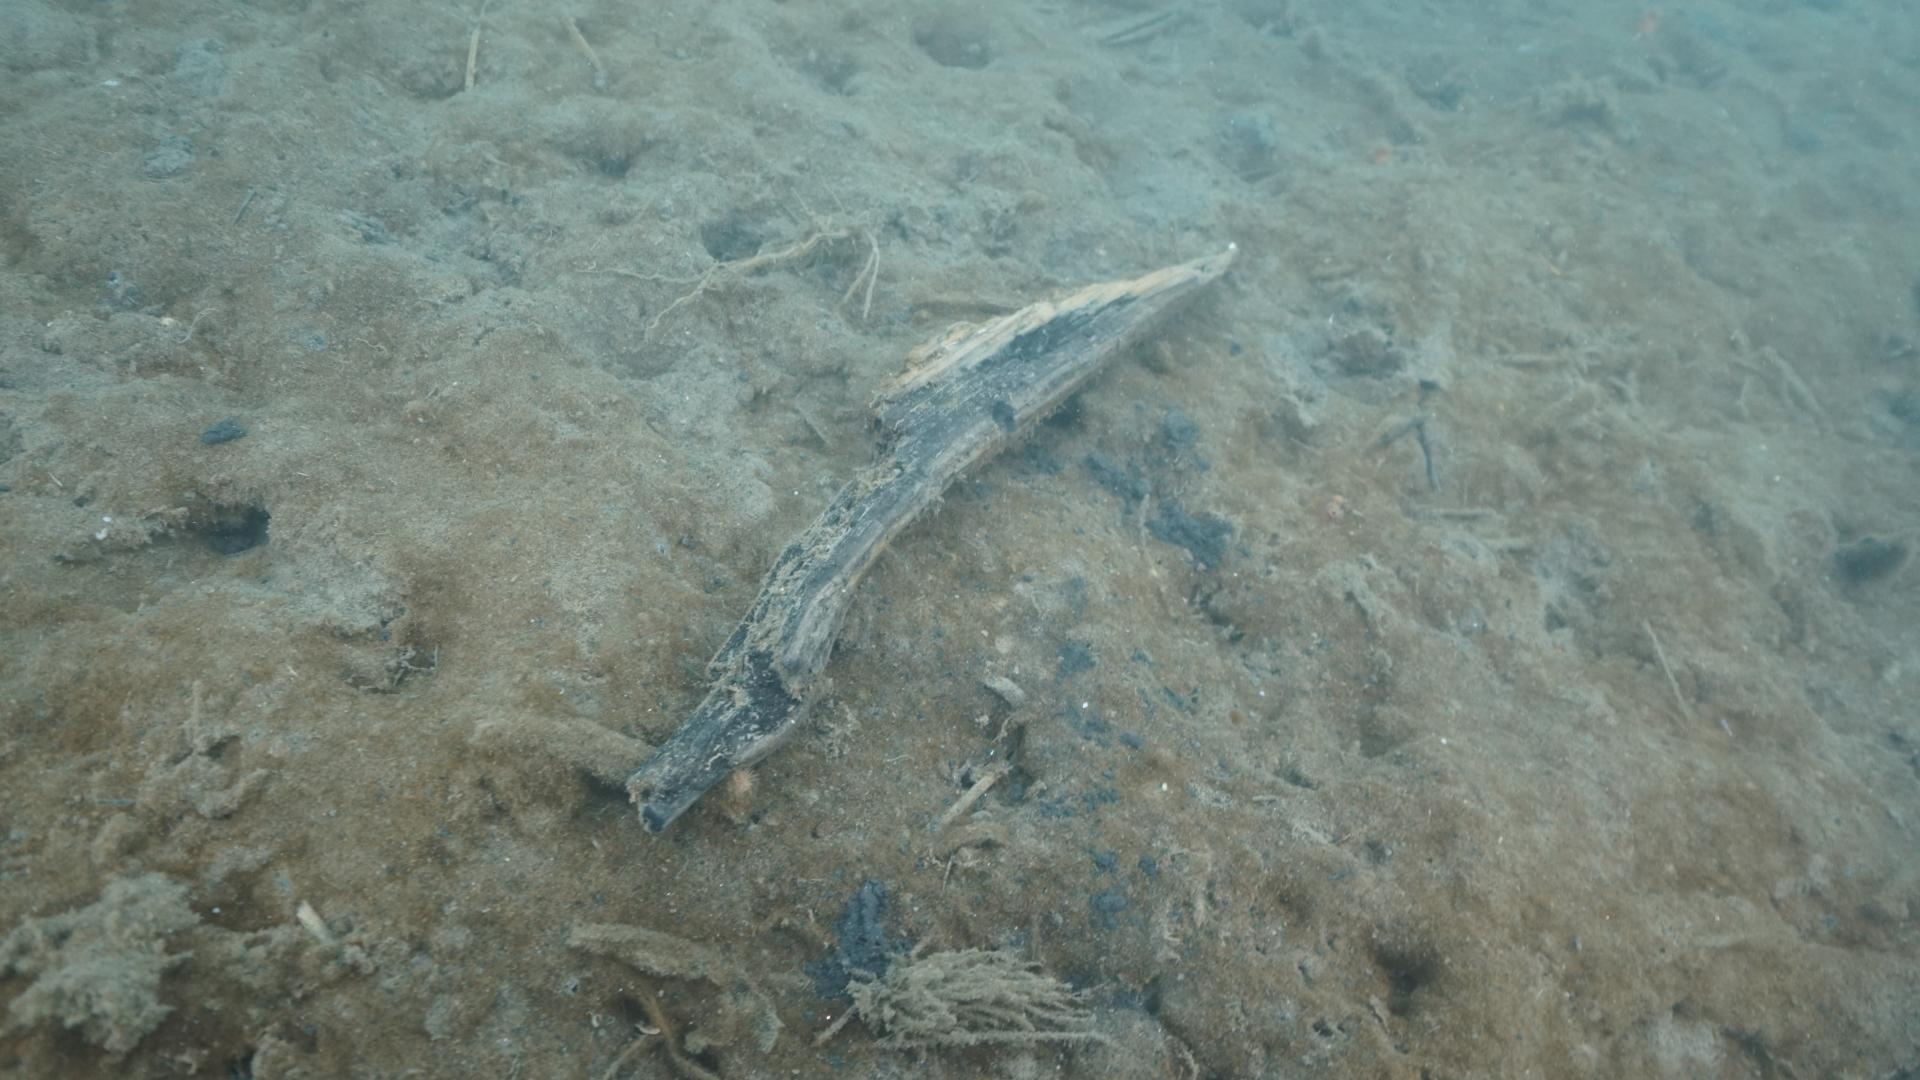wood: (622, 237, 1240, 836)
